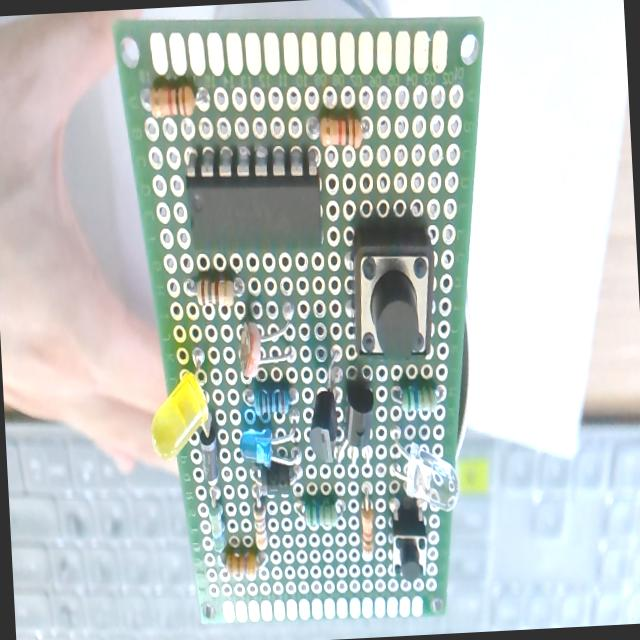IC: (184, 153, 322, 260)
cds: (238, 313, 297, 382)
diode: (256, 457, 298, 494), (198, 419, 220, 484)
led: (152, 346, 220, 468), (391, 437, 461, 518), (239, 425, 298, 471)
resistor: (307, 114, 370, 148), (186, 274, 246, 307), (150, 84, 199, 120), (253, 381, 293, 422), (302, 495, 341, 529), (399, 378, 437, 412), (226, 548, 260, 580), (359, 499, 376, 559), (208, 505, 228, 554), (253, 504, 268, 552)
switch: (348, 226, 438, 360), (391, 506, 429, 584)
transistor: (306, 350, 354, 467), (342, 381, 378, 468)
